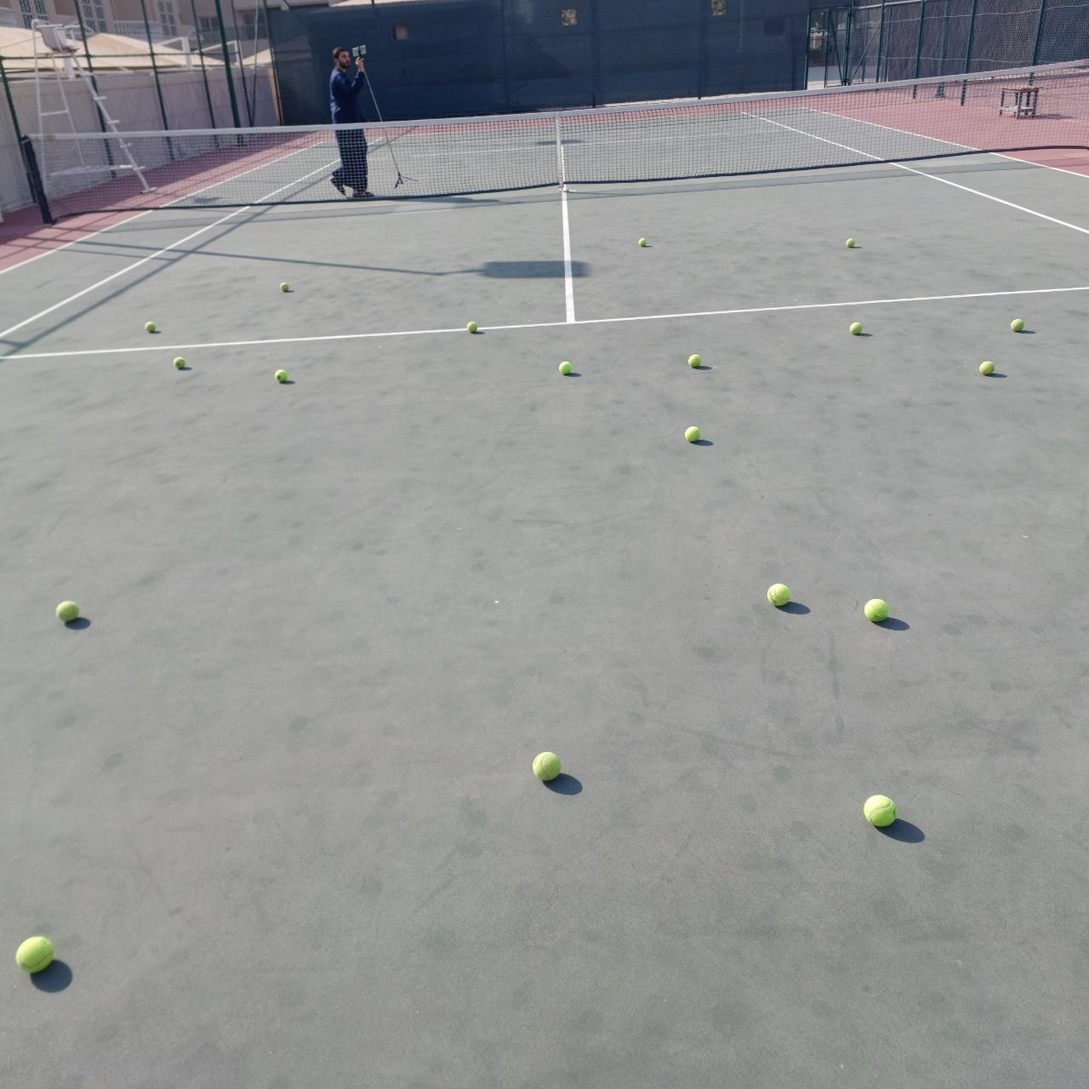tennis-ball: (14, 933, 54, 972), (862, 791, 897, 828), (531, 749, 561, 782), (862, 596, 888, 623), (766, 580, 790, 607), (54, 598, 79, 623), (683, 423, 700, 442), (978, 358, 995, 374), (171, 356, 188, 371), (464, 319, 481, 334), (848, 321, 865, 336), (687, 354, 704, 368), (557, 359, 572, 374), (1009, 316, 1023, 332), (272, 368, 286, 383), (144, 321, 157, 334), (279, 279, 290, 294), (844, 236, 855, 249), (637, 236, 647, 248)
